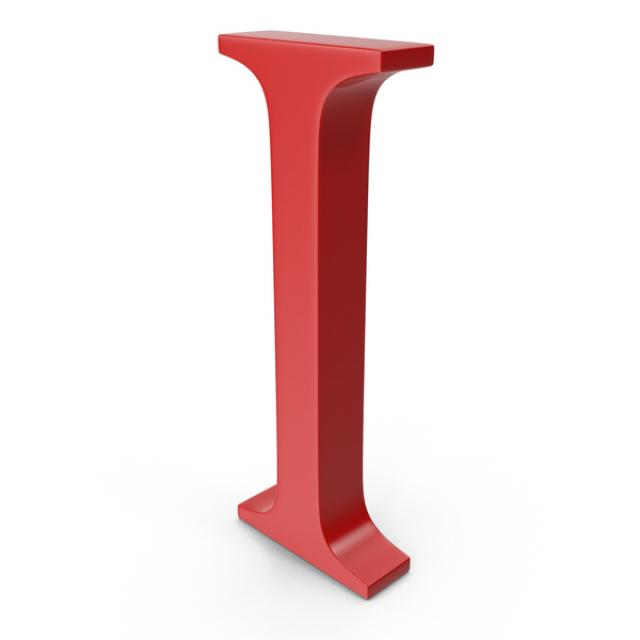I: (161, 19, 466, 603)
